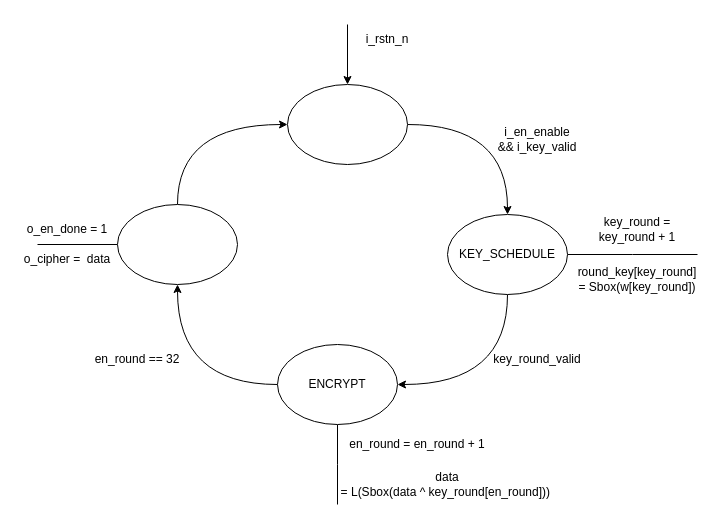
The diagram is 724 pixels wide and 523 high, and some of its shapes have lost their labels. The shapes that lost their labels are listed below. From the top down, each one's box as (x1, y1, x2, y2) in pixels, then its label:
(286, 84, 408, 164): IDLE
(116, 204, 238, 284): FINISH
